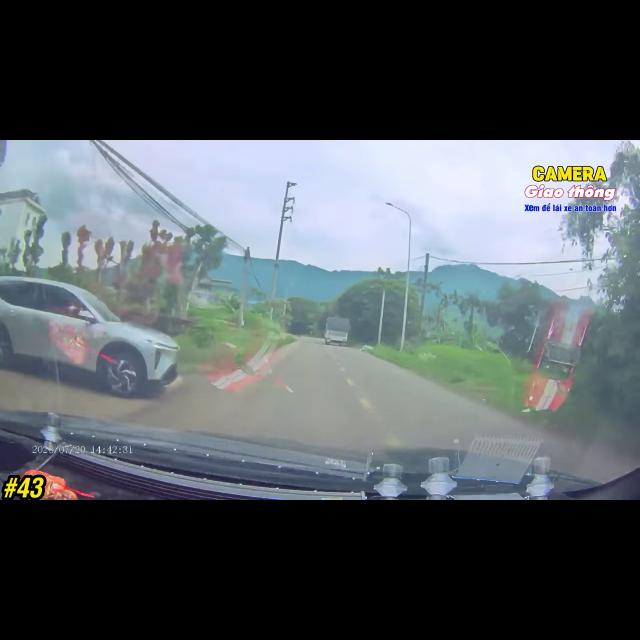car: (0, 277, 179, 396)
truck: (325, 317, 349, 345)
